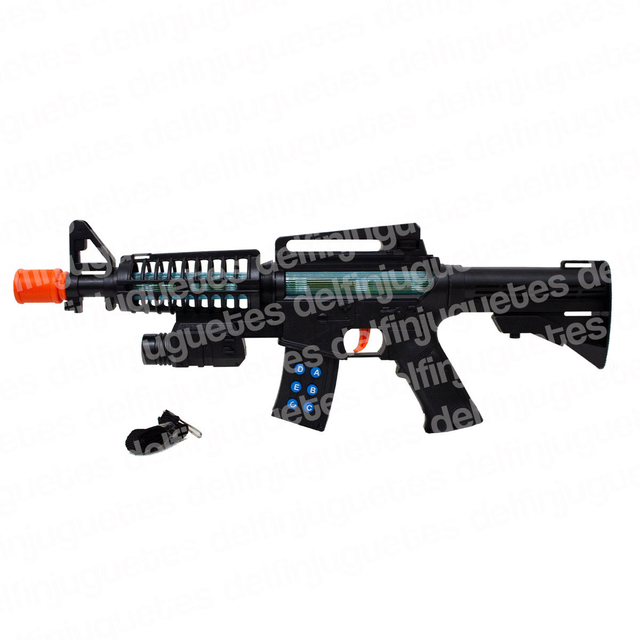Arma Falsa: (12, 218, 616, 435)
